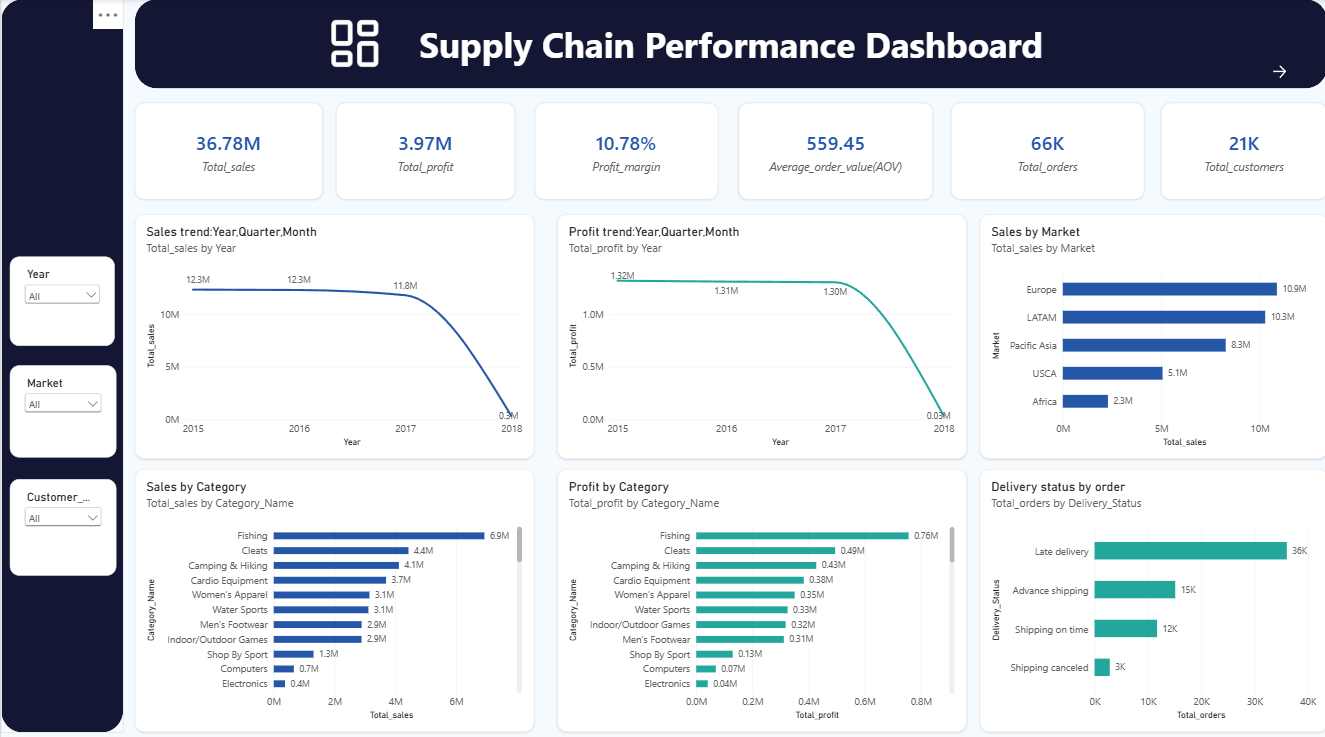

The dashboard page shown, as its layout file describes it:
{"tool":"powerbi","page":{"name":"Executive Overview","canvas":[1920,1080],"ordinal":1},"visuals":[{"type":"card","fields":{"Values":["dataco_data.Total_sales"]},"box":[193.5,150.3,271.7,140],"z":0},{"type":"card","fields":{"Values":["dataco_data.Total_profit"]},"box":[485.8,150.3,259.3,140],"z":1000},{"type":"card","fields":{"Values":["dataco_data.Total_orders"]},"box":[1375,150.3,279.9,140],"z":2000},{"type":"card","fields":{"Values":["dataco_data.Total_customers"]},"box":[1679.6,150.3,240.8,140],"z":3000},{"type":"card","fields":{"Values":["dataco_data.Average_order_value(AOV)"]},"box":[1068.3,150.3,282,140],"z":4000},{"type":"card","fields":{"Values":["dataco_data.Profit_margin"]},"box":[771.9,150.3,265.5,140],"z":5000},{"type":"lineChart","title":"Sales trend:Year,Quarter,Month","fields":{"Category":["dataco_data.order_date_DateOrders.Variation.Date Hierarchy.Year","dataco_data.order_date_DateOrders.Variation.Date Hierarchy.Quarter","dataco_data.order_date_DateOrders.Variation.Date Hierarchy.Month","dataco_data.order_date_DateOrders.Variation.Date Hierarchy.Day"],"Y":["dataco_data.Total_sales"]},"box":[193.5,310.8,578.4,354],"z":6000},{"type":"lineChart","title":"Profit trend:Year,Quarter,Month","fields":{"Category":["dataco_data.order_date_DateOrders.Variation.Date Hierarchy.Year","dataco_data.order_date_DateOrders.Variation.Date Hierarchy.Quarter","dataco_data.order_date_DateOrders.Variation.Date Hierarchy.Month","dataco_data.order_date_DateOrders.Variation.Date Hierarchy.Day"],"Y":["dataco_data.Total_profit"]},"box":[804.8,310.8,592.8,354],"z":7000},{"type":"clusteredBarChart","title":"Sales by Category","fields":{"Category":["dataco_data.Category_Name"],"Y":["dataco_data.Total_sales"]},"box":[193.5,681.3,578.4,380.8],"z":8000},{"type":"clusteredBarChart","title":"Profit by Category","fields":{"Category":["dataco_data.Category_Name"],"Y":["dataco_data.Total_profit"]},"box":[804.8,681.3,592.8,380.8],"z":9000},{"type":"clusteredBarChart","title":"Sales by Market","fields":{"Category":["dataco_data.Market"],"Y":["dataco_data.Total_sales"]},"box":[1416.1,310.8,504.3,354],"z":10000},{"type":"clusteredBarChart","title":"Delivery status by order","fields":{"Category":["dataco_data.Delivery_Status"],"Y":["dataco_data.Total_orders"]},"box":[1416.1,681.3,504.3,380.8],"z":11000},{"type":"shape","box":[193.5,0,1726.9,129.7],"z":12000},{"type":"shape","box":[0,0,177,1062.1],"z":13000},{"type":"slicer","fields":{"Values":["dataco_data.order_date_DateOrders.Variation.Date Hierarchy.Year"]},"box":[12.3,372.6,152.3,129.7],"z":14000},{"type":"slicer","fields":{"Values":["dataco_data.Market"]},"box":[12.3,531,154.4,133.8],"z":15000},{"type":"slicer","fields":{"Values":["dataco_data.Customer_Segment"]},"box":[12.3,695.7,154.4,140],"z":16000},{"type":"image","box":[465.1,23.5,94.1,81.4],"z":17000},{"type":"actionButton","box":[1800.6,85.1,100,40],"z":17001}]}

Visuals, with their boxes in screenshot pixels (x1, y1, x2, y2), scaled from the page's 1920x1080 canvas onto the 1325x737 screenshot:
card - dataco_data.Total_sales: select_region(134, 103, 321, 198)
card - dataco_data.Total_profit: select_region(335, 103, 514, 198)
card - dataco_data.Total_orders: select_region(949, 103, 1142, 198)
card - dataco_data.Total_customers: select_region(1159, 103, 1324, 198)
card - dataco_data.Average_order_value(AOV): select_region(737, 103, 932, 198)
card - dataco_data.Profit_margin: select_region(533, 103, 716, 198)
"Sales trend:Year,Quarter,Month" lineChart: select_region(134, 212, 533, 454)
"Profit trend:Year,Quarter,Month" lineChart: select_region(555, 212, 964, 454)
"Sales by Category" clusteredBarChart: select_region(134, 465, 533, 725)
"Profit by Category" clusteredBarChart: select_region(555, 465, 964, 725)
"Sales by Market" clusteredBarChart: select_region(977, 212, 1324, 454)
"Delivery status by order" clusteredBarChart: select_region(977, 465, 1324, 725)
shape: select_region(134, 0, 1324, 89)
shape: select_region(0, 0, 122, 725)
slicer - dataco_data.order_date_DateOrders.Variation.Date Hierarchy.Year: select_region(8, 254, 114, 343)
slicer - dataco_data.Market: select_region(8, 362, 115, 454)
slicer - dataco_data.Customer_Segment: select_region(8, 475, 115, 570)
image: select_region(321, 16, 386, 72)
actionButton: select_region(1243, 58, 1312, 85)
